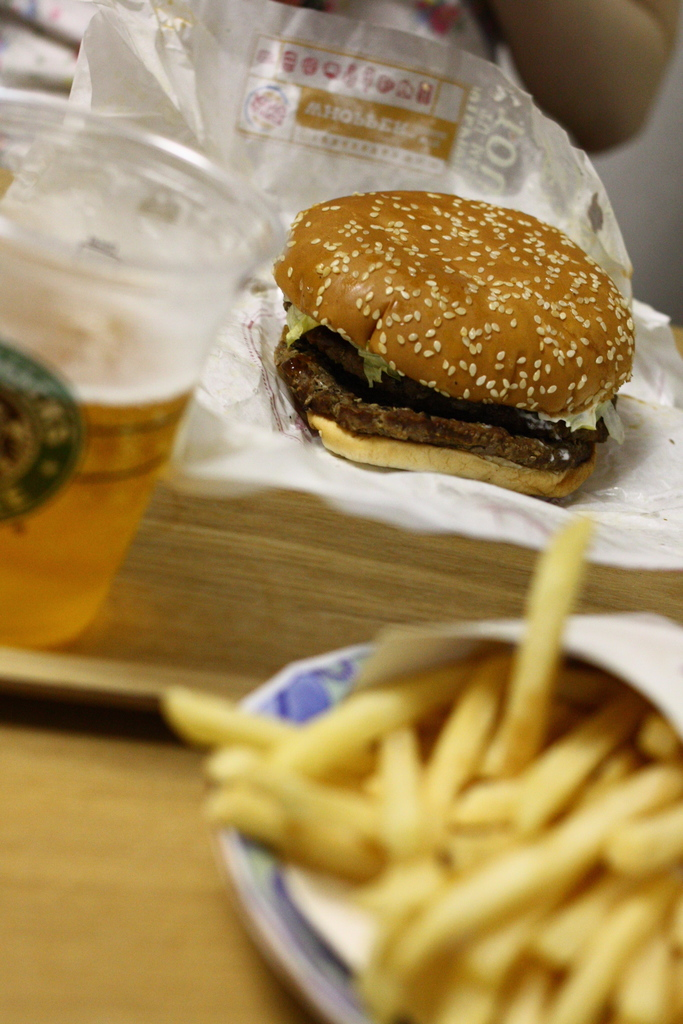French fries: (196, 640, 670, 1008)
